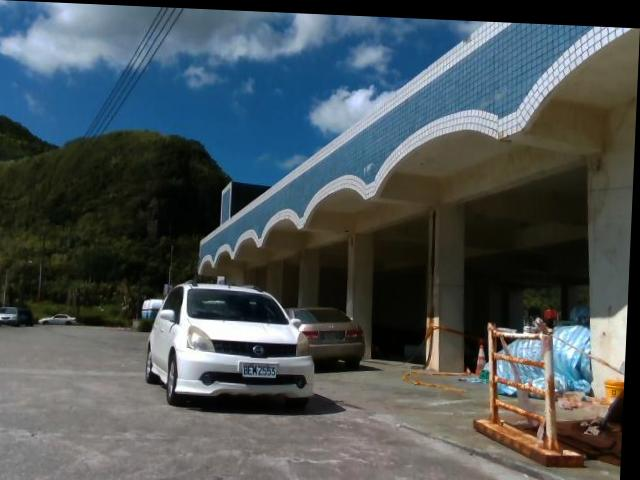pollute: (480, 294, 598, 402)
